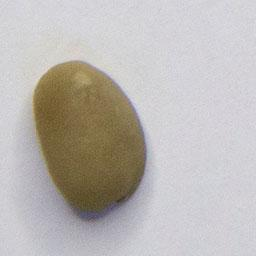premium: (28, 55, 149, 216)
